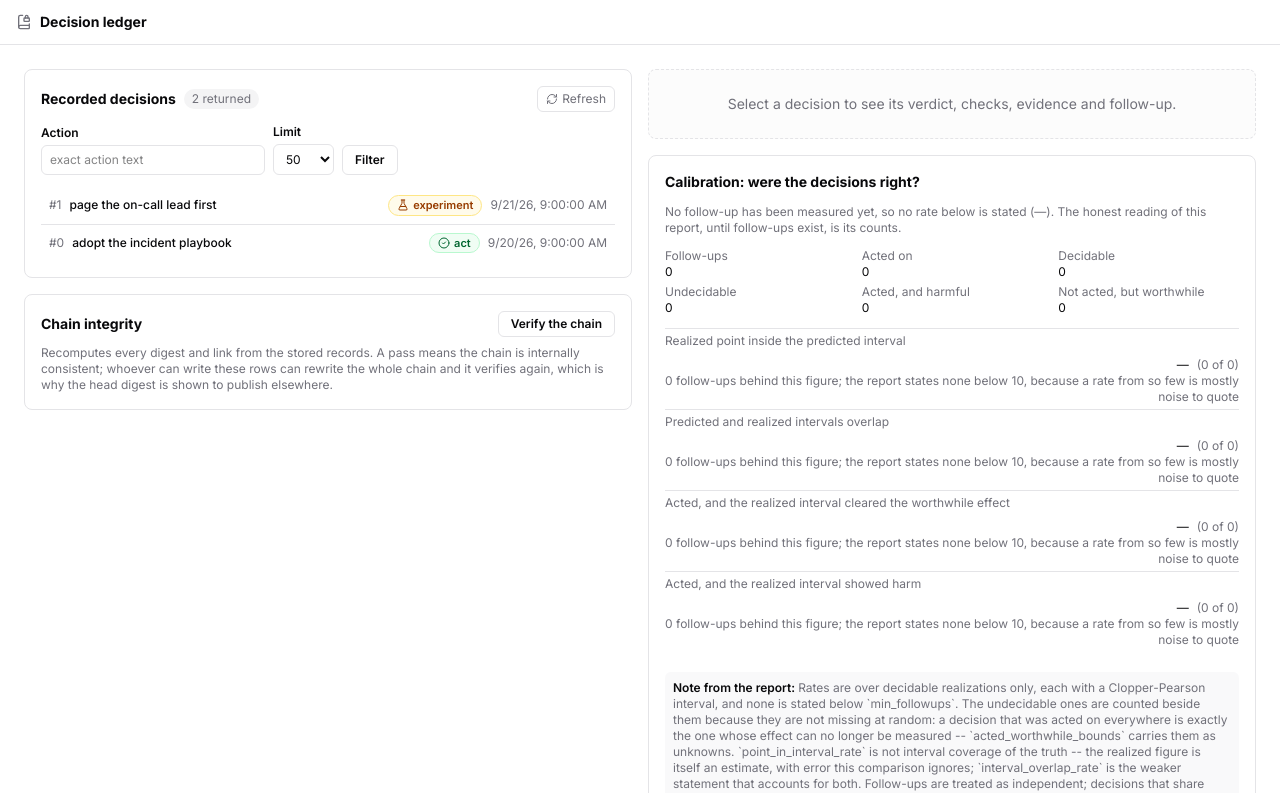
Test case: decision ledger page › verifies the chain only when asked, and shows the backend's report
This screenshot has width=1280, height=793.
Step 1. Click the button "Verify the chain" → point(556, 324), box [498,311,615,337]
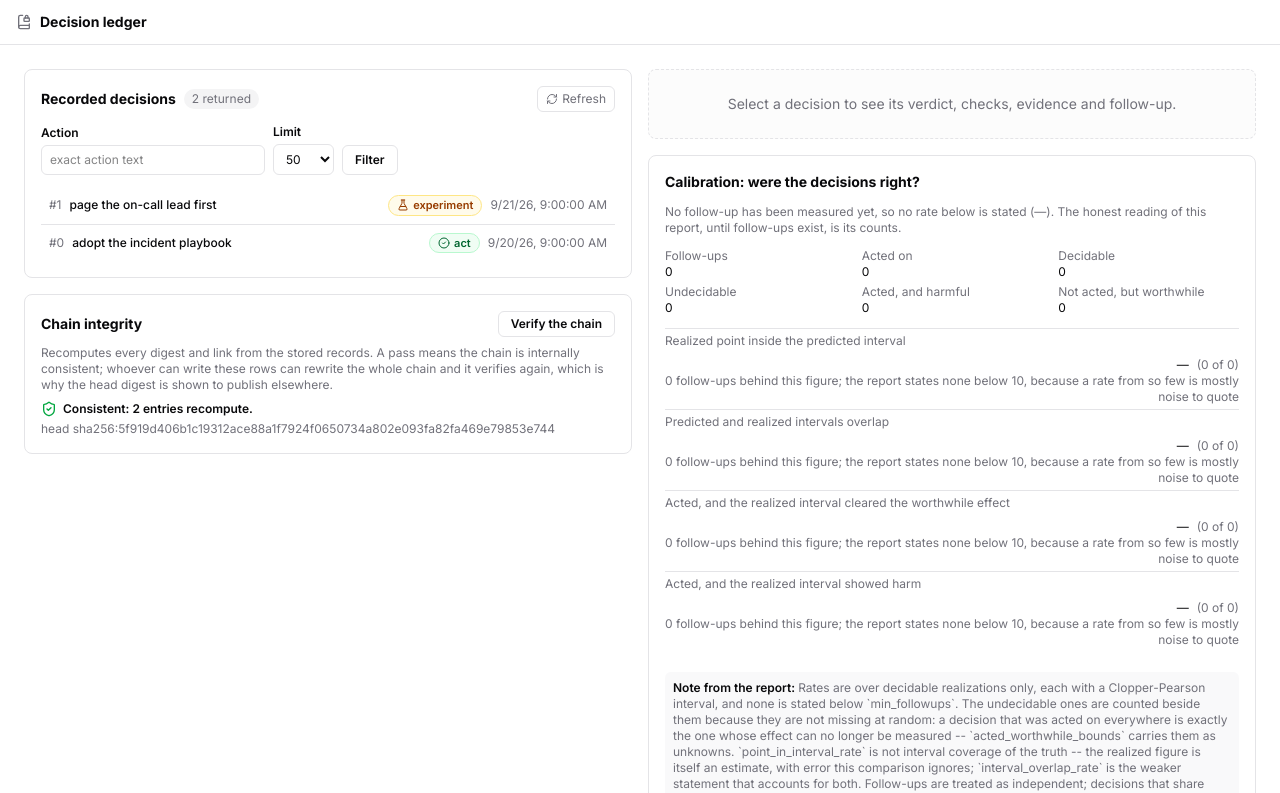
Expected: the message with test id "chain-report" shows "sha256:5f919d406b1c19312ace88a1f7924f0650734a802e093fa82fa469e79853e744", [73,421,555,436]
